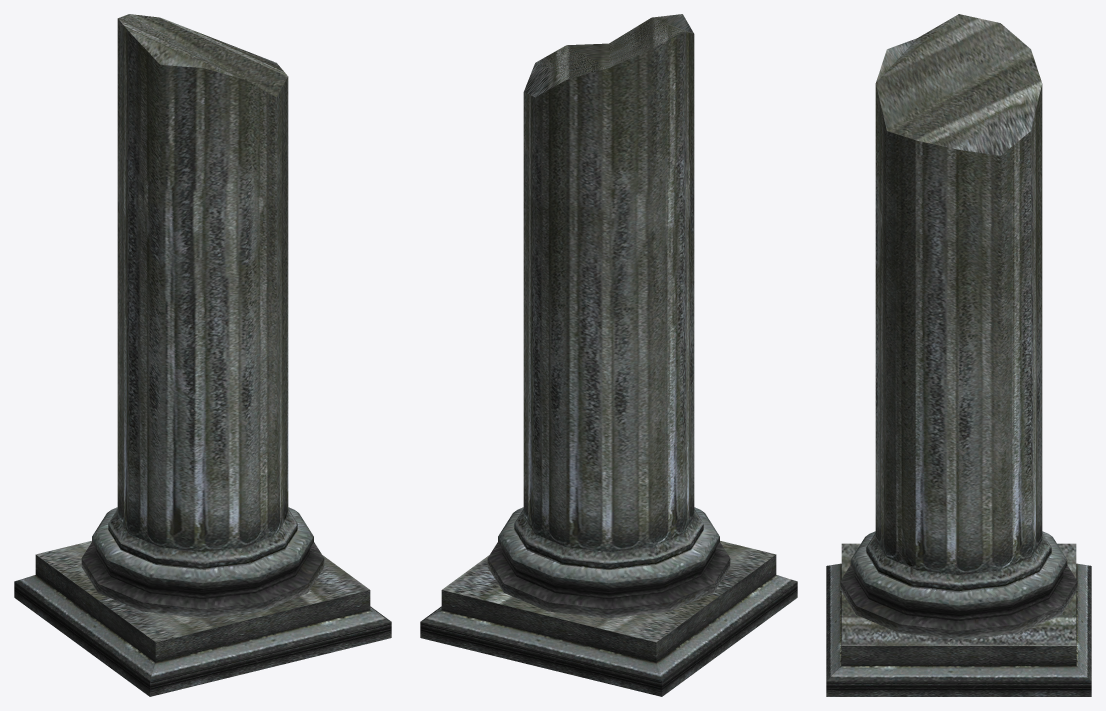
Rendered from pillar_broken.dae.
3 renders of one model, left to right at view 1: azimuth 30°, elevation 25°; view 2: azimuth 150°, elevation 25°; view 3: azimuth 270°, elevation 25°, orthographic. The views are drawn at different scales.
Parts seen in each view (by area): view 1: Mesh; view 2: Mesh; view 3: Mesh.
Part boxes in pixels (x1=…): Mesh: x1=14, y1=14, x2=391, y2=696; Mesh: x1=420, y1=14, x2=797, y2=696; Mesh: x1=826, y1=14, x2=1091, y2=696.
Size of the model in its own units: 3.6 by 8.6 by 3.5.
